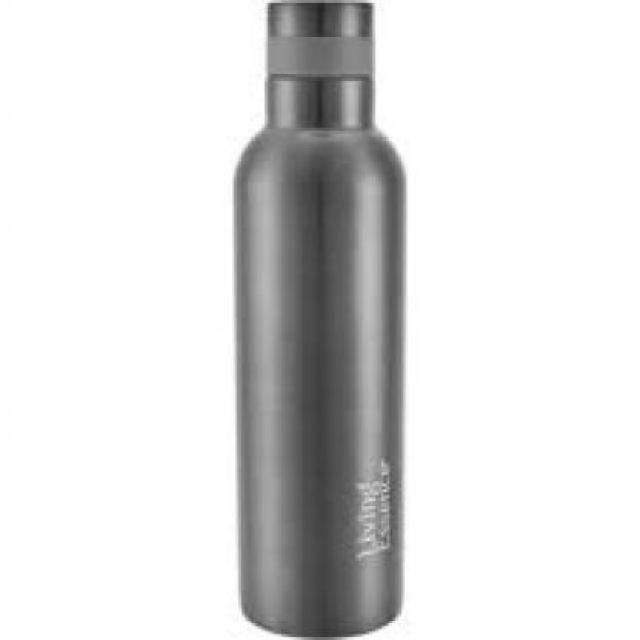Drinking: (198, 8, 436, 634)
